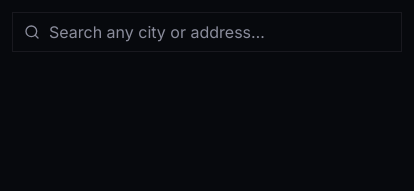
Test: LocationSearch › offers a retry after a service failure and renders the recovered results
Type "berlin" into the dropdown.
click(207, 32); type("berlin")  # box x1=12 y1=12 x2=402 y2=52
Wait 400 ms
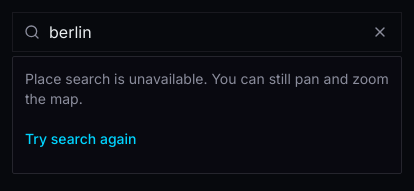
expect the message shows "search is unavailable": met, box x1=25 y1=70 x2=389 y2=107
Click the button "Try search again".
click(81, 139)  # box x1=25 y1=117 x2=136 y2=161
Wait 400 ms
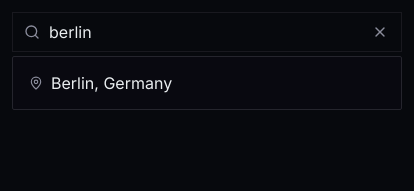
expect the option "Berlin, Germany" is shown: met, box x1=17 y1=61 x2=397 y2=105
